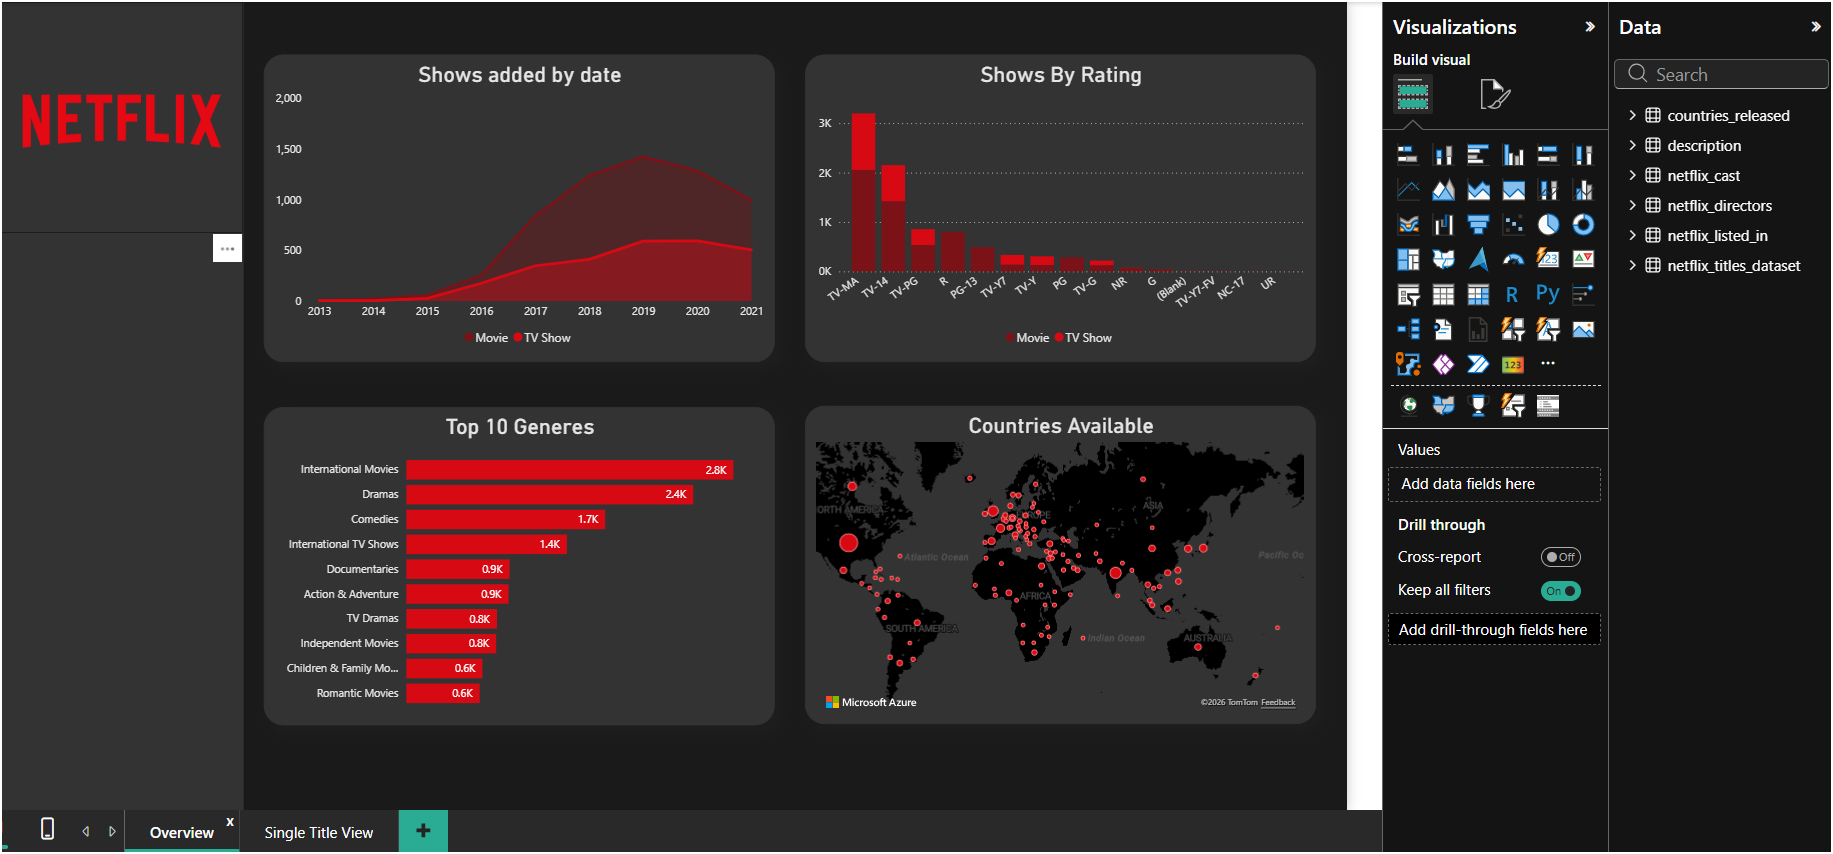

The dashboard page shown, as its layout file describes it:
{"tool":"powerbi","page":{"name":"Overview","canvas":[1500,900],"ordinal":0},"visuals":[{"type":"shape","box":[0,0,271.5,900.3],"z":0},{"type":"areaChart","title":"Shows added by date","fields":{"Y":["CountNonNull(netflix_titles_dataset.show_id)"],"Category":["netflix_titles_dataset.date_added.Variation.Date Hierarchy.Year"],"Series":["netflix_titles_dataset.type"]},"box":[292.9,58.3,569,342],"z":1000},{"type":"columnChart","title":"Shows By Rating","fields":{"Category":["netflix_titles_dataset.rating"],"Y":["CountNonNull(netflix_titles_dataset.show_id)"],"Series":["netflix_titles_dataset.type"]},"box":[895.7,58.3,569,342],"z":2000},{"type":"clusteredBarChart","title":"Top 10 Generes","fields":{"Category":["netflix_listed_in.category"],"Y":["CountNonNull(netflix_listed_in.show_id)"]},"box":[292.9,450.9,569,354.3],"z":3000},{"type":"azureMap","title":"Countries Available","fields":{"Category":["countries_released.country"],"Size":["CountNonNull(countries_released.show_id)"]},"box":[895.7,449.4,569,354.3],"z":4000},{"type":"image","box":[0,0,271.5,257.7],"z":5000}]}

Visuals, with their boxes on the page's 1500x900 design canvas (x1, y1, x2, y2). These are canvas units, not pixel positions in the 1833x854 screenshot, which may show the page scaled, cropped or inside an application window:
shape: {"left": 0, "top": 0, "right": 272, "bottom": 900}
"Shows added by date" areaChart: {"left": 293, "top": 58, "right": 862, "bottom": 400}
"Shows By Rating" columnChart: {"left": 896, "top": 58, "right": 1465, "bottom": 400}
"Top 10 Generes" clusteredBarChart: {"left": 293, "top": 451, "right": 862, "bottom": 805}
"Countries Available" azureMap: {"left": 896, "top": 449, "right": 1465, "bottom": 804}
image: {"left": 0, "top": 0, "right": 272, "bottom": 258}
